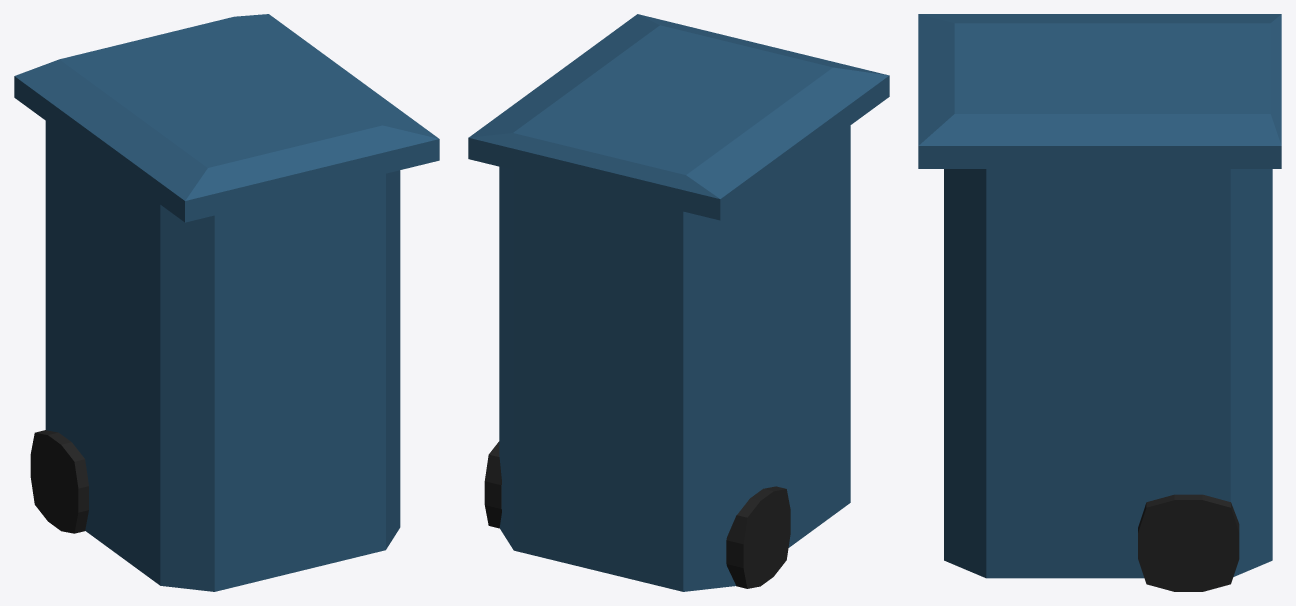
Rendered from bluebin.fbx.
3 renders of one model, left to right at view 1: azimuth 30°, elevation 25°; view 2: azimuth 150°, elevation 25°; view 3: azimuth 270°, elevation 25°, orthographic. The views are drawn at different scales.
Parts seen in each view (by area): view 1: bin; view 2: bin; view 3: bin.
Boxes of the visible parts, bbox=[...] form: bin: bbox=[14, 14, 439, 591]; bin: bbox=[468, 14, 889, 591]; bin: bbox=[918, 14, 1281, 591].
Size of the model in its own units: 76 by 119 by 86.
3 materials, 3 textured.
